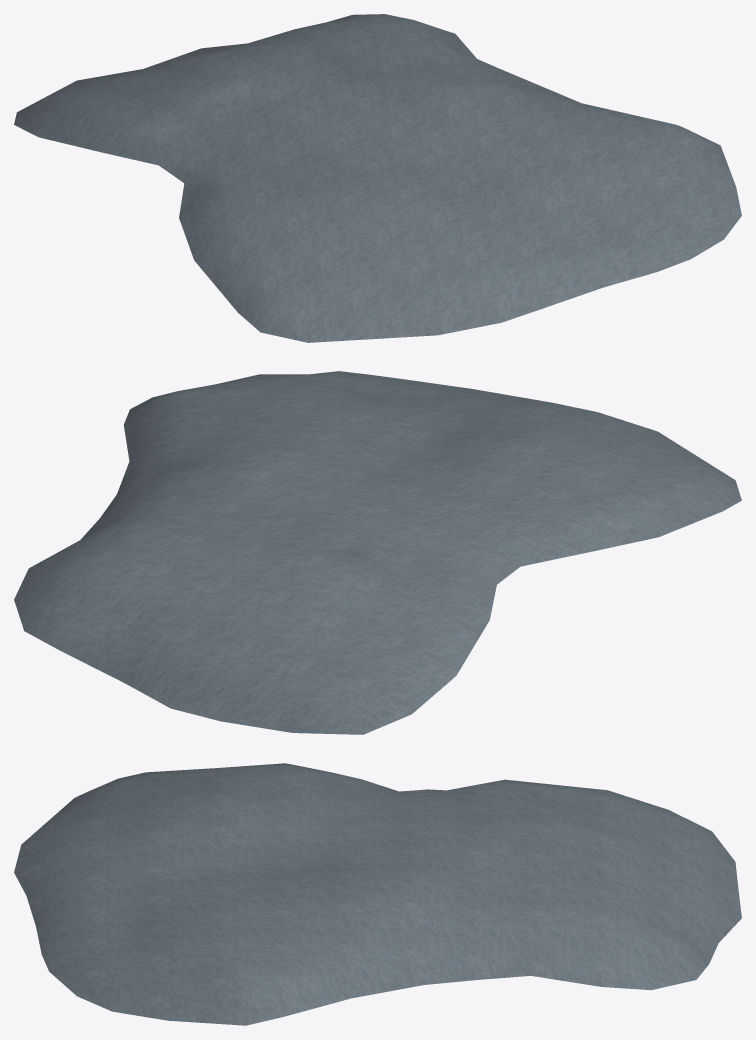
Rendered from tesv_glacierrubbletrim01_base-transformed.glb.
3 views of the same model, one above another, from view 1: azimuth 30°, elevation 25°; view 2: azimuth 150°, elevation 25°; view 3: azimuth 270°, elevation 25° (orthographic). The views are drawn at different scales.
Visible parts, largest first — view 1: glacierrubbletrim01.001; view 2: glacierrubbletrim01.001; view 3: glacierrubbletrim01.001.
Boxes of the visible parts, x1,y1,x2,y2 form: glacierrubbletrim01.001: (14, 14, 741, 342); glacierrubbletrim01.001: (14, 371, 741, 734); glacierrubbletrim01.001: (14, 763, 741, 1025).
Size of the model in its own units: 18.34 by 2.87 by 22.37.
1 material, 1 textured.
